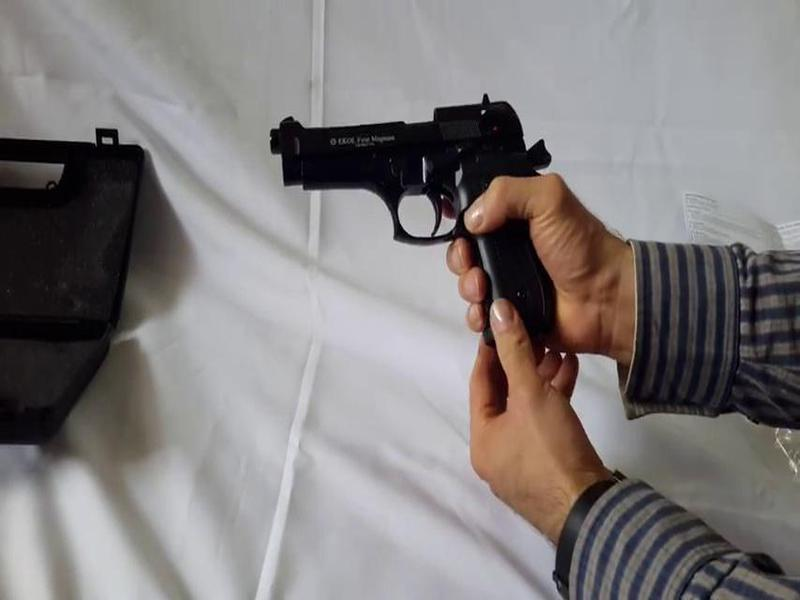Pistola: (258, 80, 576, 336)
